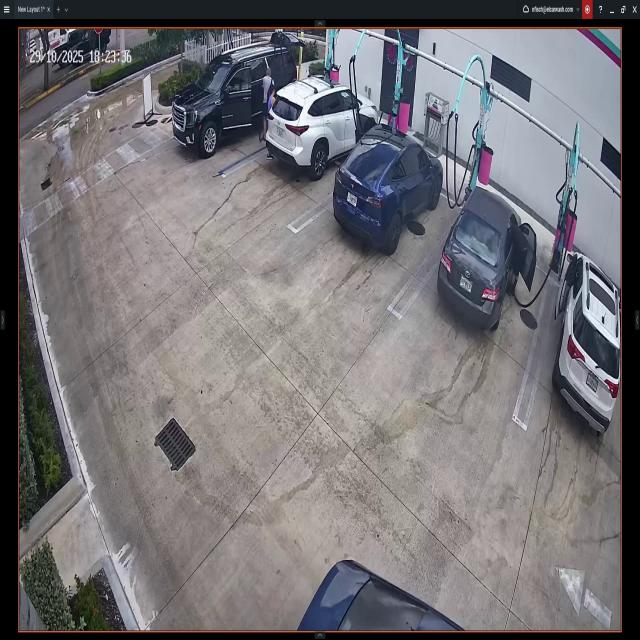Car: (335, 122, 443, 252), (439, 187, 535, 326), (296, 556, 466, 633), (174, 47, 296, 147), (558, 249, 618, 438), (267, 80, 377, 178)
